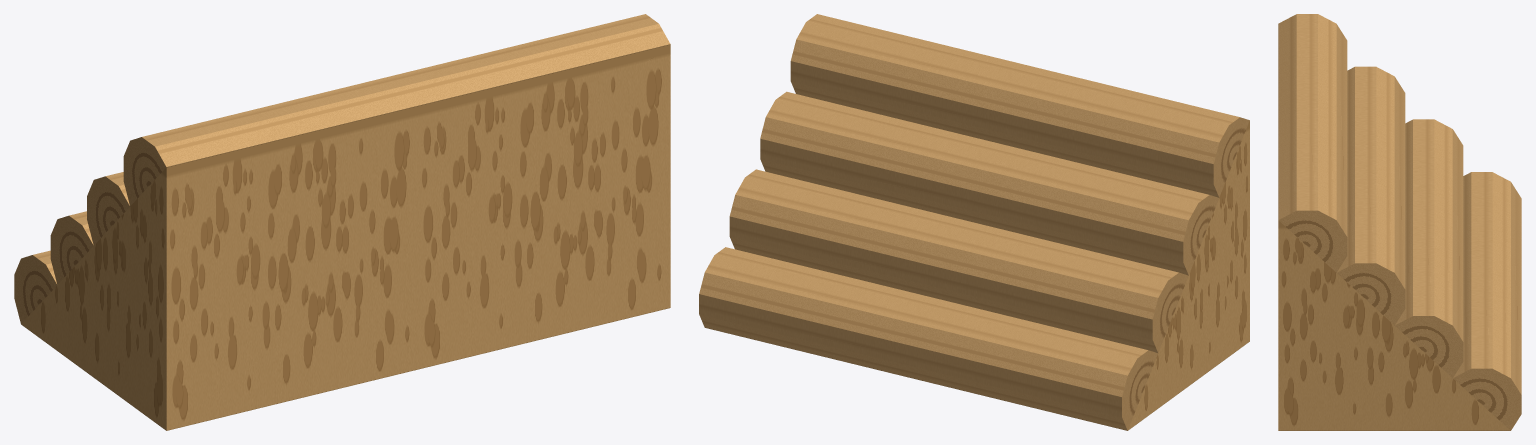
The model's file is slope_1x1_rolls.obj.
3 renders of one model, left to right at view 1: azimuth 30°, elevation 25°; view 2: azimuth 150°, elevation 25°; view 3: azimuth 270°, elevation 25°, orthographic. The views are drawn at different scales.
Visible parts, largest first — view 1: slope_1x1_rolls; view 2: slope_1x1_rolls; view 3: slope_1x1_rolls.
Boxes of the visible parts, x1,y1,x2,y2 form: slope_1x1_rolls: (14,14,670,430); slope_1x1_rolls: (699,14,1249,430); slope_1x1_rolls: (1278,14,1521,430).
Size of the model in its own units: 2 by 1.05 by 1.05.
Materials: 1 (1 with a texture image).
